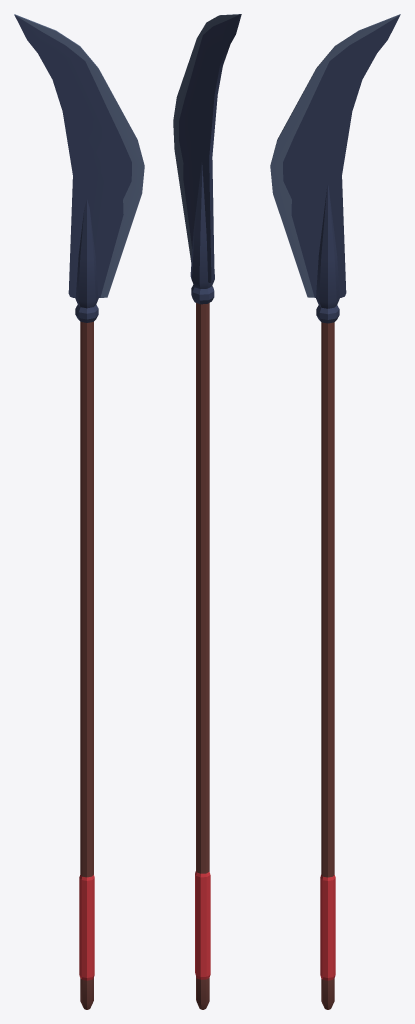
Rendered from Polearm_07.fbx.
3 views of the same model, side by side, from view 1: azimuth 90°, elevation 25°; view 2: azimuth 210°, elevation 25°; view 3: azimuth 270°, elevation 25° (orthographic). The views are drawn at different scales.
Visible parts, largest first — view 1: Polearm_07; view 2: Polearm_07; view 3: Polearm_07.
Part boxes in pixels (x1=…): Polearm_07: x1=14, y1=14, x2=144, y2=1009; Polearm_07: x1=173, y1=14, x2=241, y2=1009; Polearm_07: x1=270, y1=14, x2=400, y2=1009.
Size of the model in its own units: 6.85 by 304 by 36.08.
